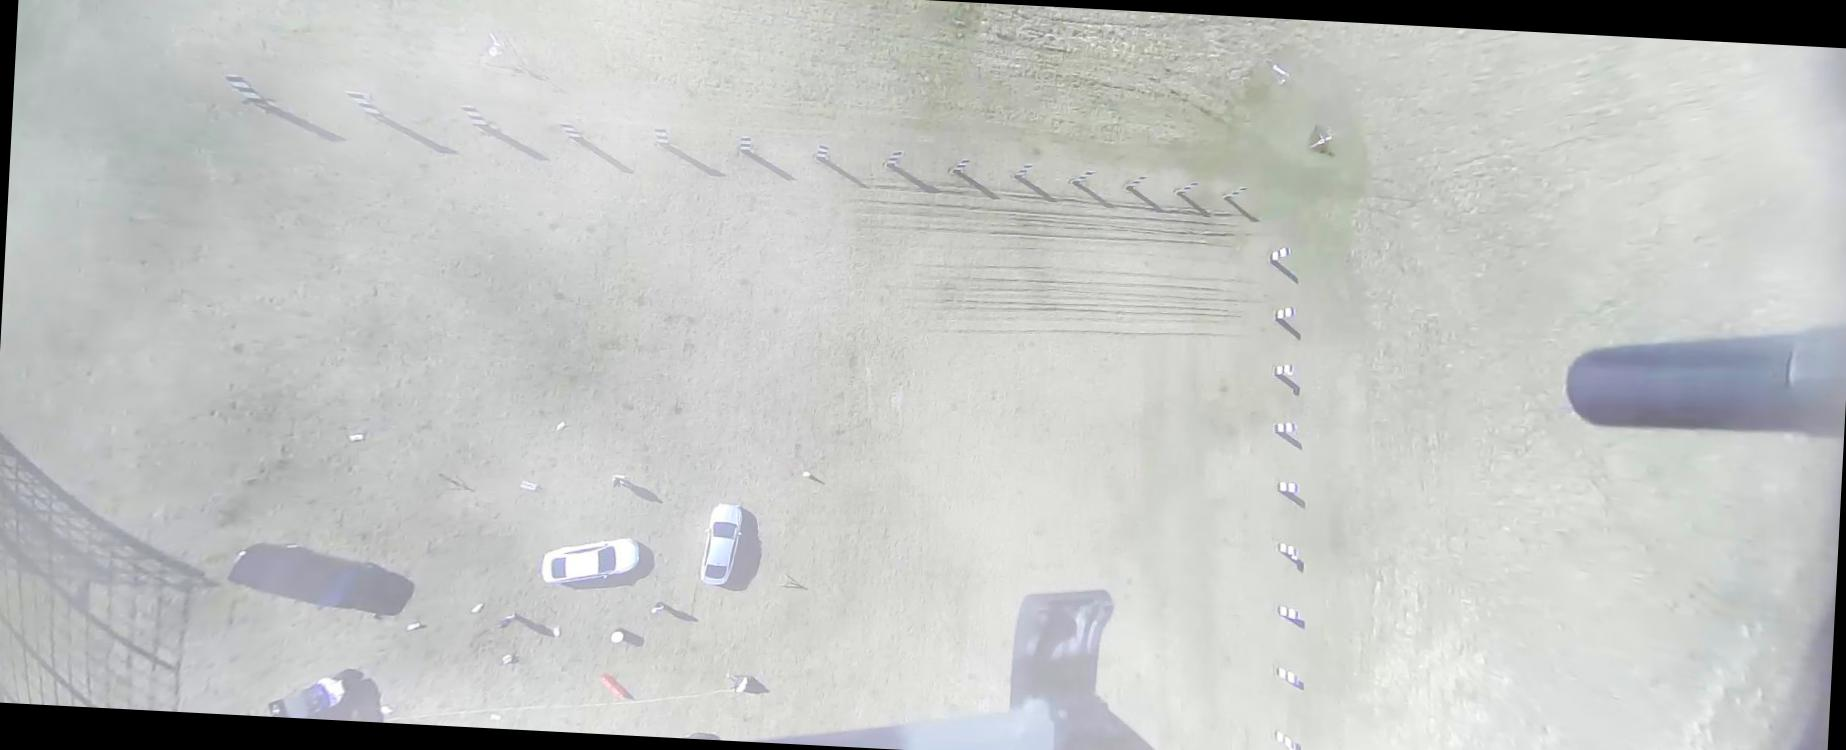vehicle: (225, 540, 373, 612), (540, 533, 640, 589), (698, 503, 743, 585), (267, 673, 345, 719)
